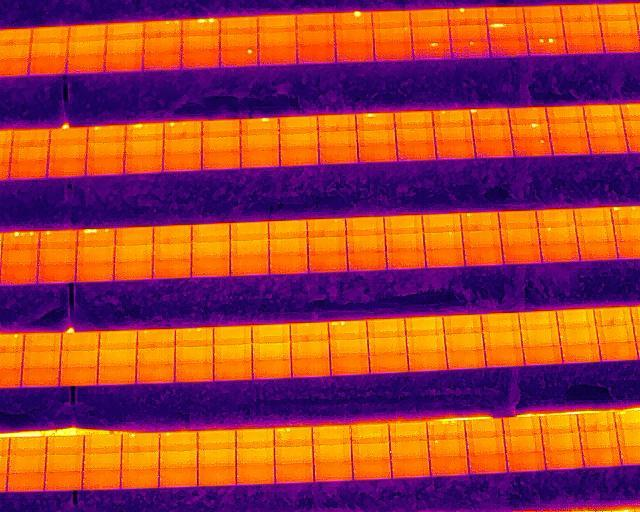Cell: (121, 433, 160, 453), (428, 438, 467, 457), (159, 432, 198, 451), (290, 322, 328, 341), (460, 212, 498, 231), (219, 49, 259, 67), (412, 41, 452, 59), (451, 41, 490, 59), (424, 231, 463, 249), (512, 138, 551, 156), (136, 329, 174, 347), (39, 230, 77, 248), (335, 11, 372, 29), (240, 118, 279, 135), (539, 227, 576, 244), (449, 7, 486, 24), (510, 122, 549, 138), (470, 109, 509, 125), (89, 126, 126, 142), (432, 110, 470, 125)
Cell-Multi: (427, 420, 466, 439), (175, 327, 213, 346), (275, 427, 313, 446), (527, 37, 567, 55), (1, 231, 40, 249), (182, 18, 221, 36), (329, 321, 366, 339), (164, 122, 202, 138), (145, 21, 182, 37)
No-Anomaly: (446, 348, 485, 370), (313, 441, 352, 463), (406, 315, 443, 337), (407, 332, 445, 353), (445, 331, 483, 352), (596, 322, 634, 343), (45, 470, 83, 491), (352, 423, 390, 444), (59, 365, 98, 385), (213, 360, 252, 380), (252, 359, 291, 379), (292, 357, 331, 377), (369, 353, 408, 373), (425, 248, 464, 268), (258, 46, 297, 66), (7, 472, 46, 492), (352, 442, 391, 462), (46, 434, 85, 454), (504, 433, 543, 453), (313, 426, 352, 446), (435, 140, 476, 159), (485, 347, 522, 368), (483, 311, 520, 332), (98, 364, 136, 384), (61, 348, 99, 368), (251, 341, 291, 360), (484, 329, 522, 349), (521, 328, 559, 348), (444, 314, 482, 334), (38, 263, 76, 283), (77, 262, 115, 282), (114, 244, 154, 263), (274, 463, 314, 482), (352, 461, 392, 480), (67, 54, 105, 74), (144, 52, 182, 72), (430, 456, 468, 476), (469, 454, 507, 474), (8, 453, 46, 473), (192, 223, 230, 243), (231, 221, 269, 241), (160, 467, 198, 487), (160, 449, 198, 469), (581, 429, 619, 449), (236, 428, 274, 448), (389, 421, 427, 441), (22, 350, 61, 369), (251, 323, 290, 342), (557, 309, 596, 328), (230, 256, 269, 275), (21, 368, 60, 387), (307, 237, 346, 256), (307, 219, 346, 238), (384, 215, 423, 234), (423, 213, 462, 232), (120, 469, 159, 488), (86, 157, 125, 176), (198, 467, 237, 486), (238, 466, 277, 485), (46, 453, 85, 472), (197, 448, 236, 467), (197, 430, 236, 449), (578, 412, 617, 431), (408, 352, 445, 372), (561, 343, 598, 363), (347, 216, 384, 236), (391, 439, 428, 459), (466, 418, 503, 438), (473, 139, 514, 157), (550, 137, 591, 155), (175, 362, 213, 381), (331, 355, 369, 374), (98, 348, 136, 367), (524, 346, 562, 365), (175, 344, 213, 363), (213, 342, 251, 361), (599, 342, 637, 361), (292, 339, 330, 358), (330, 338, 368, 357), (214, 325, 252, 344), (367, 318, 405, 337), (520, 310, 558, 329), (115, 263, 153, 282), (314, 462, 352, 481), (258, 30, 296, 49), (154, 243, 192, 262), (192, 241, 230, 260), (347, 236, 385, 255), (116, 227, 154, 246), (269, 219, 307, 238), (358, 143, 396, 162), (589, 136, 627, 155), (373, 10, 411, 29), (84, 434, 122, 453), (463, 248, 503, 266), (583, 103, 623, 121), (83, 469, 119, 489), (410, 9, 450, 27), (584, 447, 620, 467), (504, 415, 540, 435), (62, 332, 99, 351), (392, 458, 429, 477), (182, 51, 219, 70), (541, 244, 578, 263), (463, 230, 500, 249), (508, 453, 545, 472), (84, 452, 121, 471), (543, 432, 580, 451), (136, 346, 175, 364), (23, 333, 62, 351), (559, 328, 598, 346), (308, 255, 347, 273), (1, 248, 40, 266), (39, 246, 78, 264), (385, 233, 424, 251), (500, 228, 539, 246), (498, 211, 537, 229), (397, 142, 436, 160), (545, 451, 584, 469), (137, 363, 175, 381), (368, 336, 406, 354), (99, 330, 137, 348), (595, 308, 631, 327), (0, 266, 38, 284), (153, 262, 191, 280), (269, 255, 307, 273), (503, 246, 541, 264), (394, 110, 432, 128), (375, 42, 413, 60), (220, 32, 258, 50), (579, 242, 617, 260), (270, 238, 308, 256), (154, 226, 192, 244), (574, 207, 610, 226), (48, 159, 86, 177), (125, 154, 163, 172), (121, 451, 159, 469), (236, 448, 274, 466), (275, 445, 313, 463), (467, 437, 505, 455), (585, 119, 625, 136), (67, 38, 107, 55), (521, 5, 561, 22), (106, 55, 143, 73), (537, 209, 574, 227), (10, 160, 47, 178), (220, 16, 257, 34), (9, 437, 46, 455), (540, 414, 577, 432), (347, 254, 386, 271), (386, 252, 425, 269), (317, 113, 356, 130), (297, 46, 336, 63), (565, 37, 604, 54), (576, 226, 615, 243), (240, 149, 279, 166), (279, 148, 318, 165), (319, 146, 358, 163), (318, 129, 357, 146), (603, 36, 639, 54), (192, 260, 230, 277), (203, 119, 241, 136), (547, 105, 585, 122), (337, 43, 375, 60), (144, 36, 182, 53), (297, 30, 335, 47), (412, 25, 450, 42), (563, 21, 601, 38), (163, 153, 201, 170), (202, 151, 240, 168), (164, 137, 202, 154), (202, 135, 240, 152), (279, 131, 317, 148), (600, 19, 638, 36), (486, 7, 524, 24), (560, 4, 598, 21), (472, 124, 512, 140), (107, 38, 144, 55), (33, 26, 70, 43), (451, 24, 488, 41), (11, 143, 48, 160), (298, 13, 335, 30), (434, 124, 473, 140), (181, 35, 220, 51), (373, 26, 412, 42), (87, 142, 126, 158), (241, 134, 280, 150), (258, 15, 297, 31), (77, 247, 115, 263), (508, 107, 546, 123), (489, 41, 527, 57), (336, 27, 374, 43), (107, 22, 145, 38), (525, 22, 563, 38), (231, 240, 269, 256), (12, 128, 50, 144), (395, 126, 435, 141), (548, 122, 588, 137), (30, 42, 67, 58), (70, 23, 107, 39), (49, 143, 86, 159), (51, 127, 88, 143), (598, 5, 637, 20), (30, 59, 66, 75), (126, 139, 164, 154), (357, 129, 395, 144), (280, 117, 317, 132), (0, 58, 30, 76), (0, 27, 32, 43), (0, 43, 31, 59)
Unclassified: (78, 228, 115, 247), (488, 23, 525, 41), (355, 112, 394, 129), (126, 122, 163, 139)
